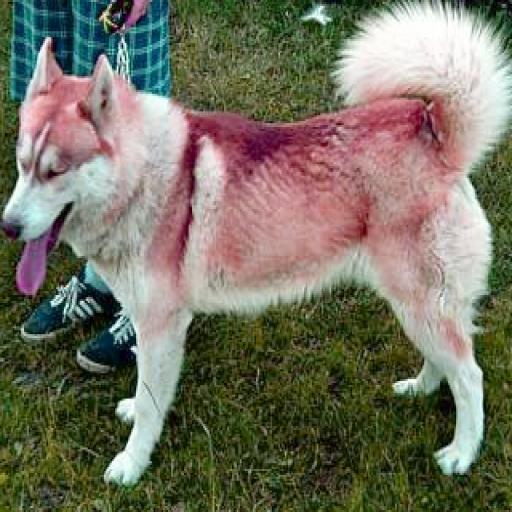dog_face: (6, 49, 120, 250)
